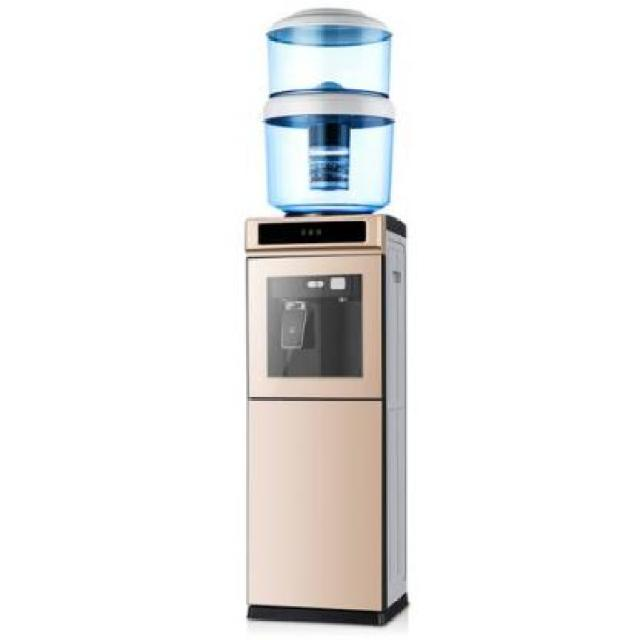coolerbottle: (256, 0, 400, 218)
